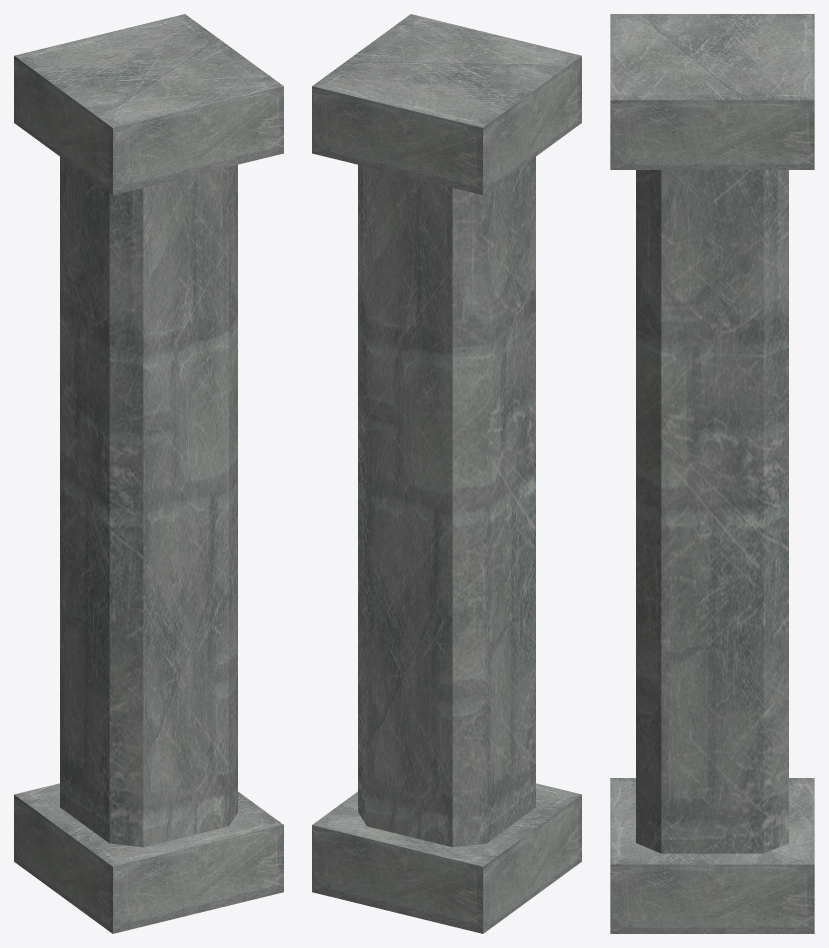
File: ice_pillar.FBX
3 renders of one model, left to right at view 1: azimuth 30°, elevation 25°; view 2: azimuth 150°, elevation 25°; view 3: azimuth 270°, elevation 25°, orthographic. The views are drawn at different scales.
Parts seen in each view (by area): view 1: pillar001; view 2: pillar001; view 3: pillar001.
Boxes of the visible parts, x1,y1,x2,y2 form: pillar001: (14, 14, 283, 933); pillar001: (312, 14, 581, 933); pillar001: (610, 14, 814, 933).
Bounding box in the file's own units: 8 × 36 × 8.
1 material, 1 textured.
